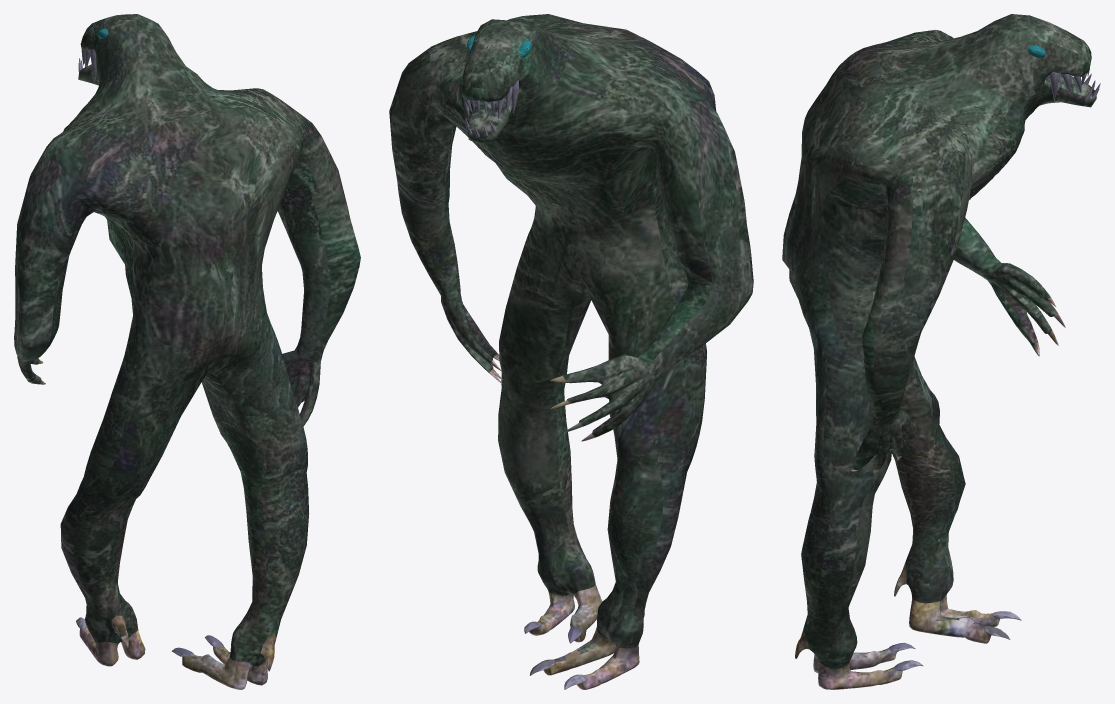
The model's file is Andar.0008.obj.
The picture shows the model from 3 angles, left to right: view 1: azimuth 30°, elevation 25°; view 2: azimuth 150°, elevation 25°; view 3: azimuth 270°, elevation 25°; orthographic projection. The views are drawn at different scales.
Parts seen in each view (by area): view 1: polySurface28; view 2: polySurface28; view 3: polySurface28.
Boxes of the visible parts, x1,y1,x2,y2 form: polySurface28: [14, 14, 360, 689]; polySurface28: [389, 14, 753, 689]; polySurface28: [782, 14, 1100, 689].
Size of the model in its own units: 1.28 by 2.3 by 1.02.
4 materials, 4 textured.
